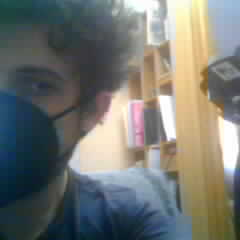with_mask: (1, 21, 81, 206)
